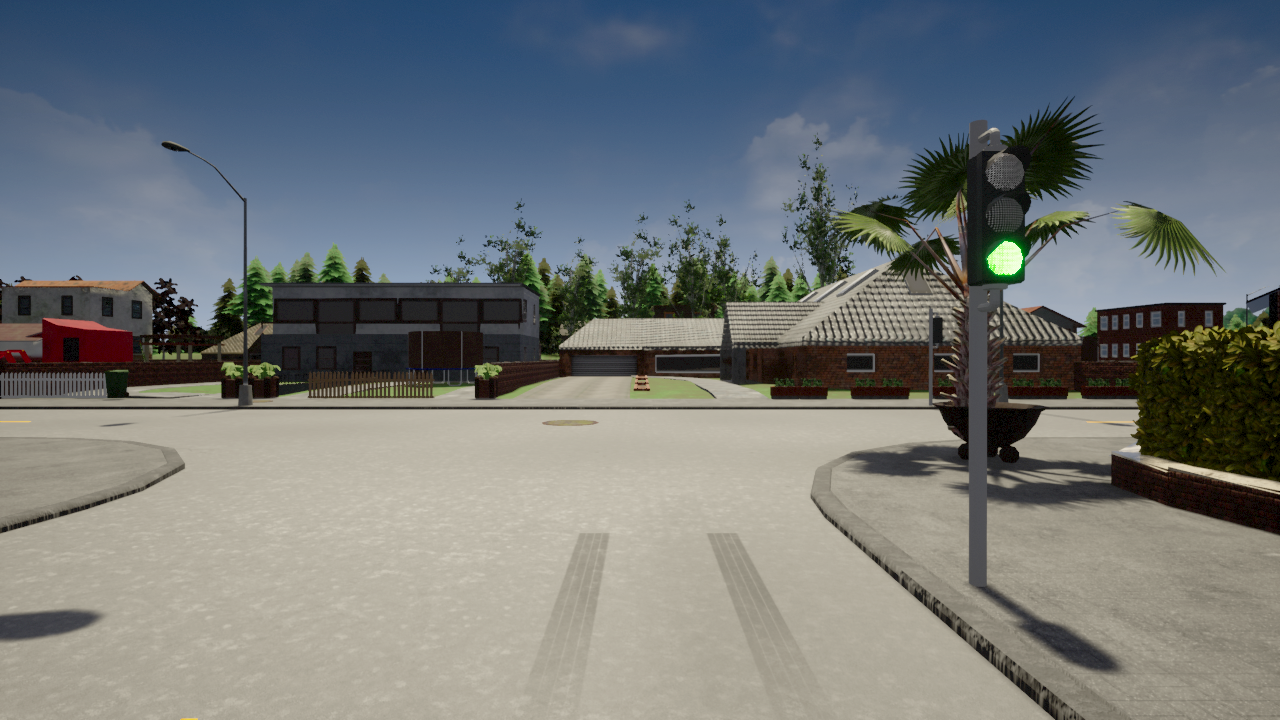green: (964, 146, 1029, 288)
